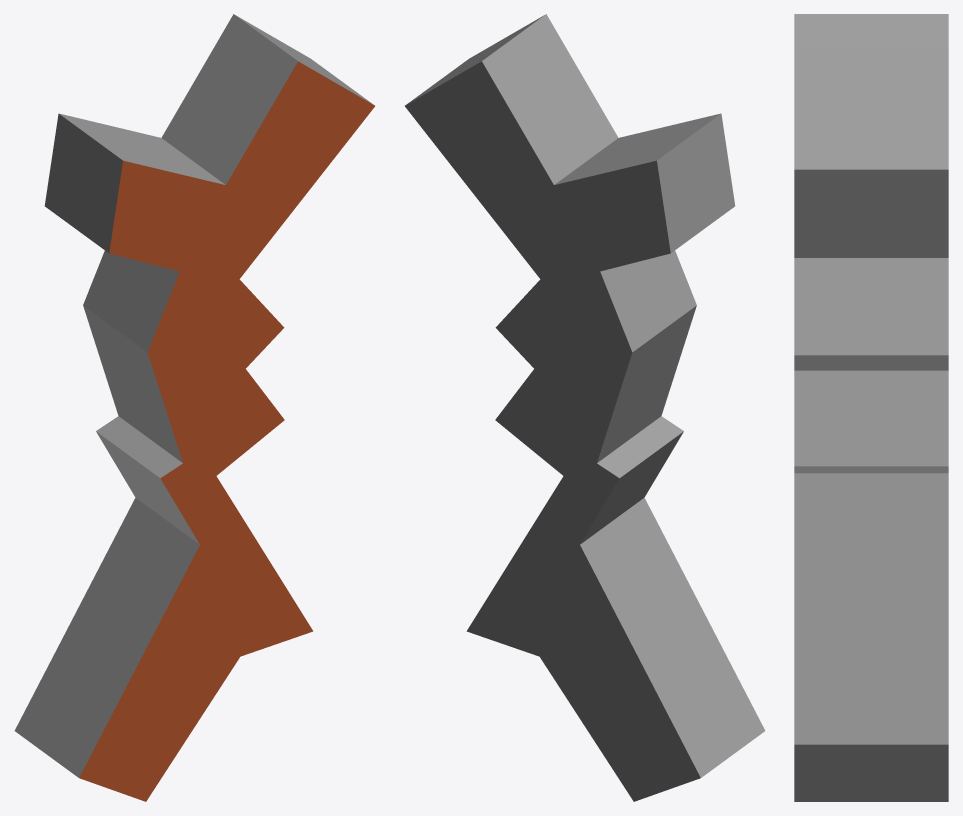
File: construction_1244_assumed_A_Casa_h6m.obj
3 views of the same model, side by side, from view 1: azimuth 30°, elevation 25°; view 2: azimuth 150°, elevation 25°; view 3: azimuth 270°, elevation 25° (orthographic). The views are drawn at different scales.
Visible parts, largest first — view 1: construction_1244_assumed_A_Casa; view 2: construction_1244_assumed_A_Casa; view 3: construction_1244_assumed_A_Casa.
Boxes of the visible parts, bbox=[...] form: construction_1244_assumed_A_Casa: bbox=[14, 14, 374, 801]; construction_1244_assumed_A_Casa: bbox=[405, 14, 765, 801]; construction_1244_assumed_A_Casa: bbox=[794, 14, 948, 801].
Bounding box in the file's own units: 15.91 × 36.08 × 6.
